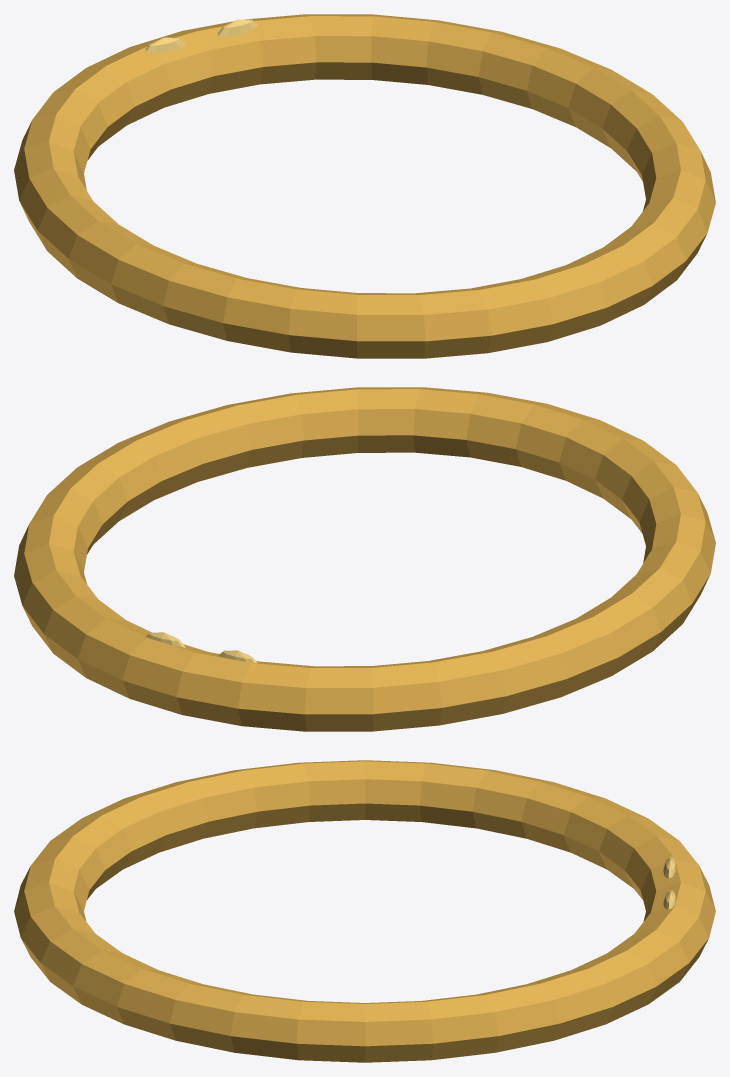
The model's file is outfit_2_runtime.glb.
3 views of the same model, one above another, from view 1: azimuth 30°, elevation 25°; view 2: azimuth 150°, elevation 25°; view 3: azimuth 270°, elevation 25° (orthographic). The views are drawn at different scales.
Visible parts, largest first — view 1: Earned hat ribbon; view 2: Earned hat ribbon; view 3: Earned hat ribbon.
Part boxes in pixels (x1,y1,x2,y2): Earned hat ribbon: (14,14,715,358); Earned hat ribbon: (14,387,715,731); Earned hat ribbon: (14,760,715,1062).
Bounding box in the file's own units: 0.522 × 0.058 × 0.5742.
